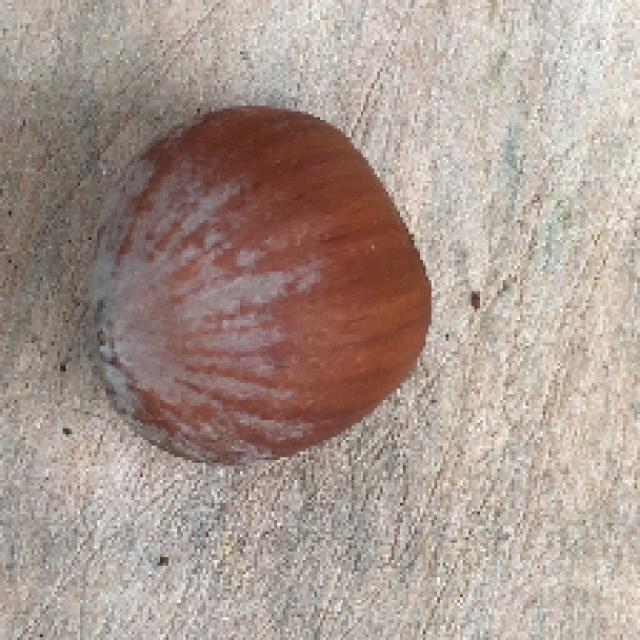QualityHazelnut: (85, 107, 437, 473)
